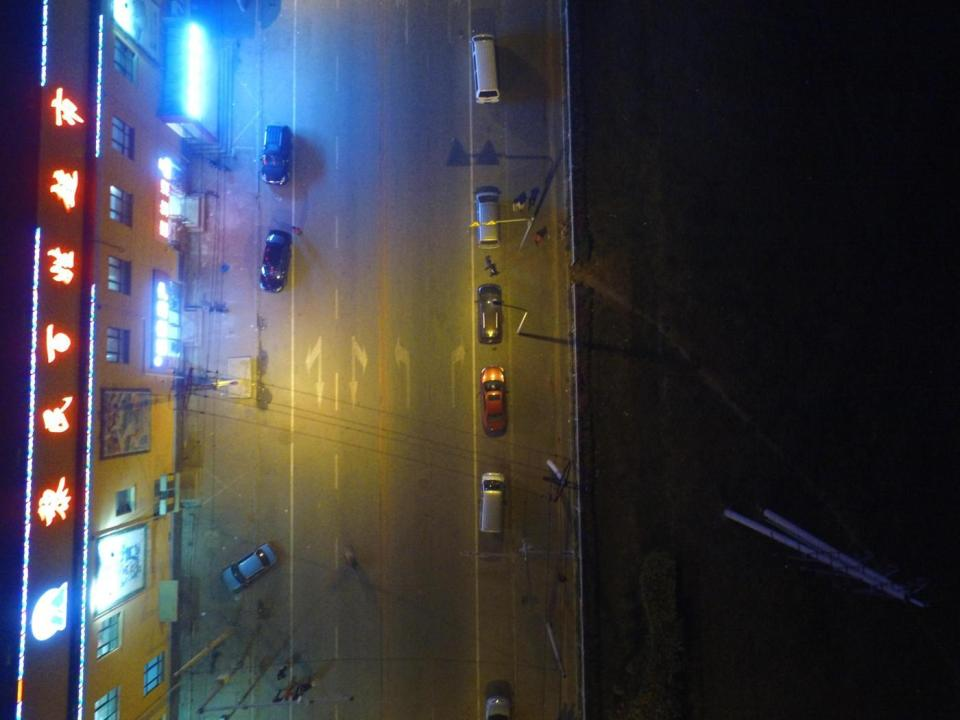car: (221, 544, 277, 592), (478, 366, 509, 431), (260, 230, 291, 293), (476, 284, 503, 343), (483, 694, 511, 720)
van: (470, 33, 499, 103), (260, 126, 291, 185), (479, 473, 505, 532), (477, 192, 499, 248)
